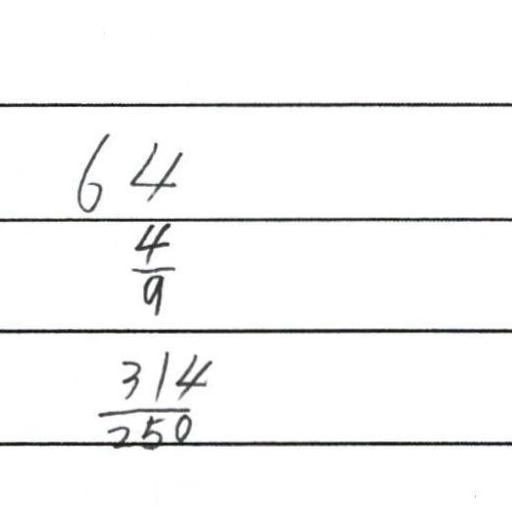ans: (95, 347, 213, 446), (74, 130, 185, 216), (124, 217, 177, 316)
